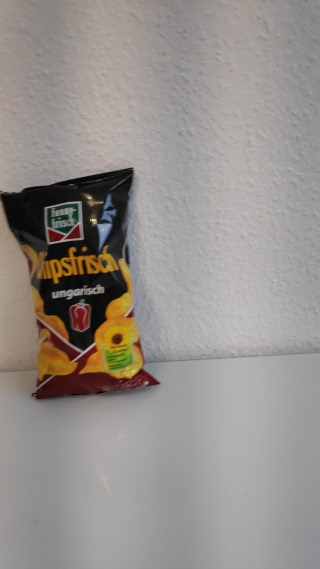chipsfrisch: (1, 163, 166, 400)
